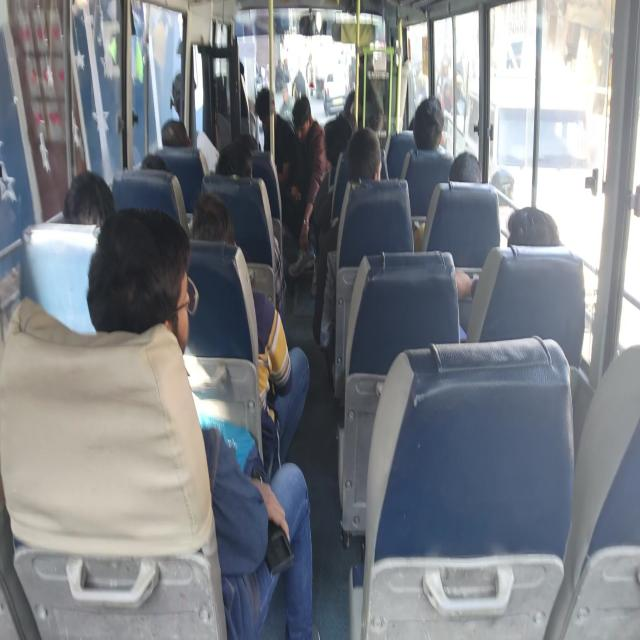person: (86, 206, 318, 638), (190, 191, 310, 471), (315, 126, 383, 350), (454, 205, 562, 341), (214, 140, 286, 312), (283, 95, 328, 278), (254, 86, 297, 185), (62, 170, 114, 228), (506, 206, 562, 247), (412, 96, 448, 155), (448, 151, 482, 183), (161, 118, 191, 146)
